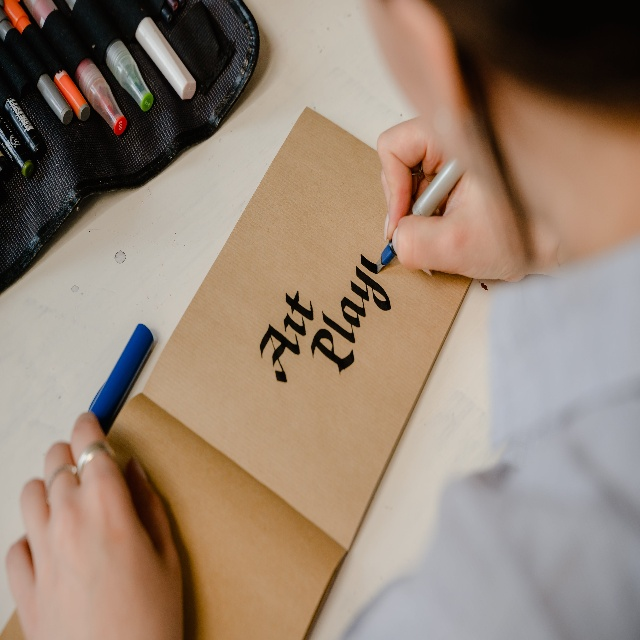Sin_guantes: (9, 408, 186, 640), (377, 114, 514, 282)
